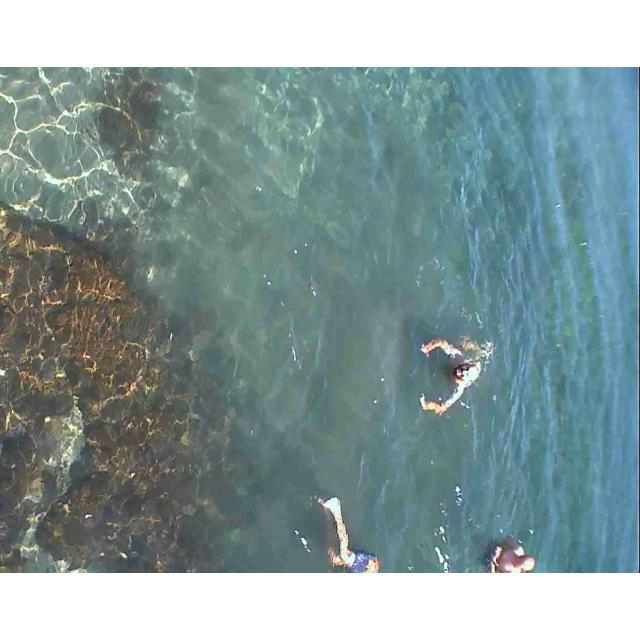human: (423, 321, 486, 444), (487, 542, 537, 573)
